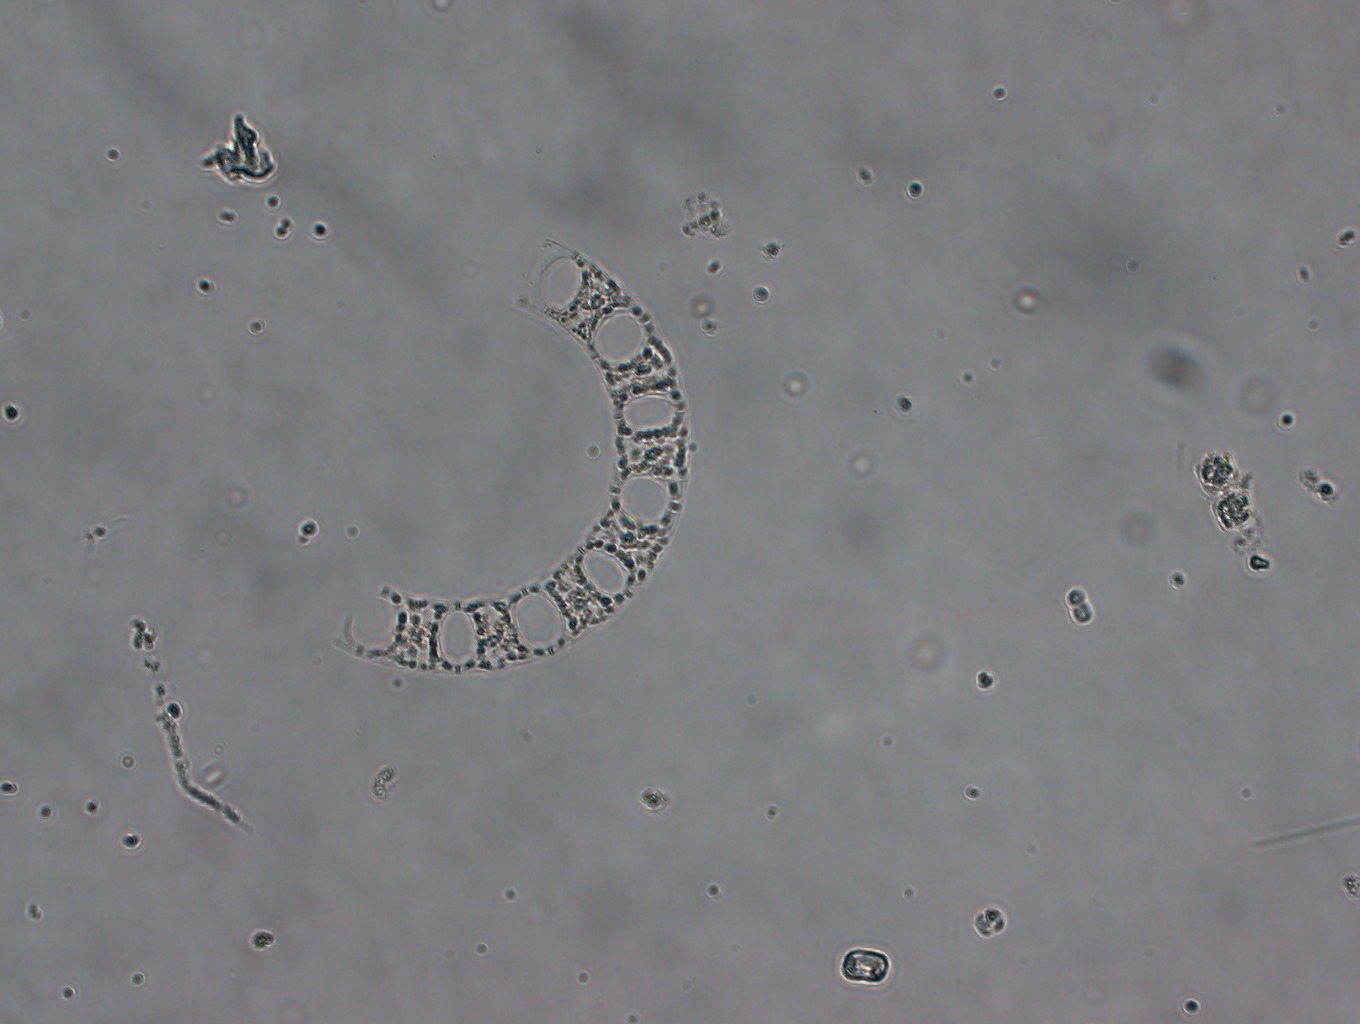eucampia: (324, 227, 698, 680)
